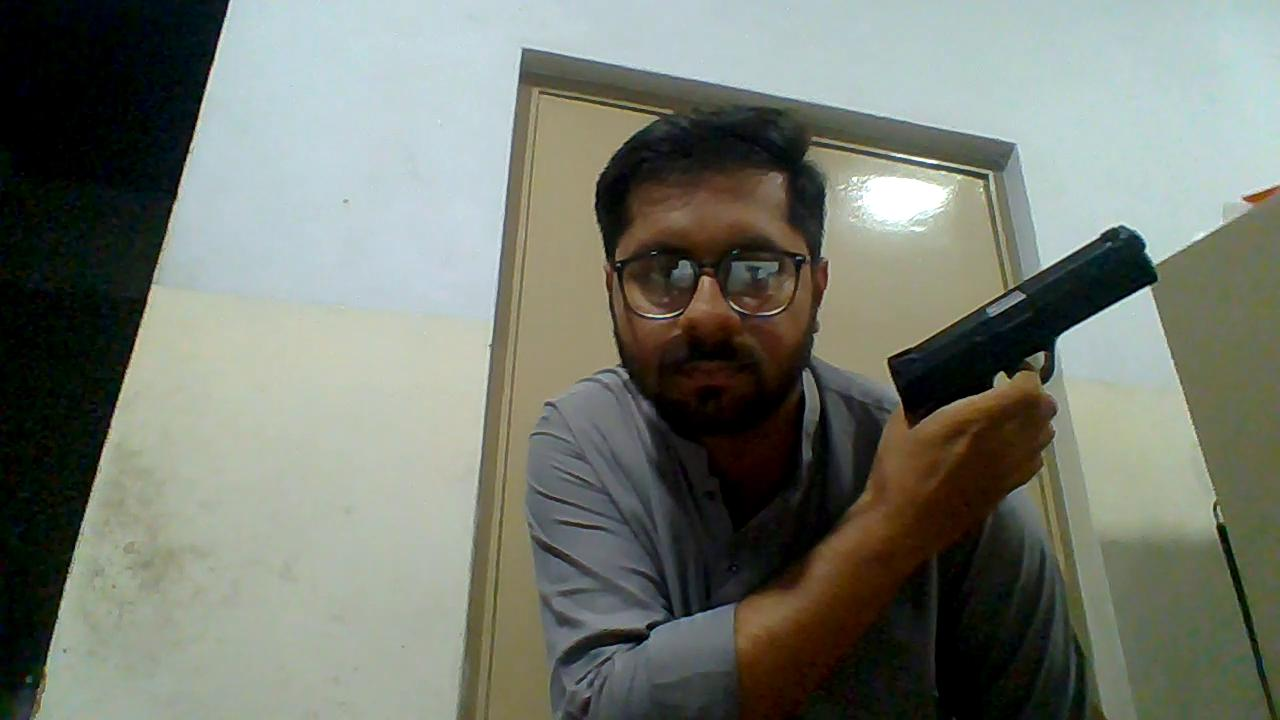criminal: (523, 103, 1162, 720)
weapon: (888, 220, 1160, 433)
